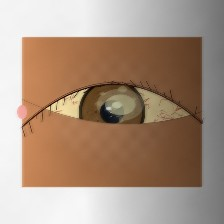corneal_ulcer: (96, 85, 145, 124)
